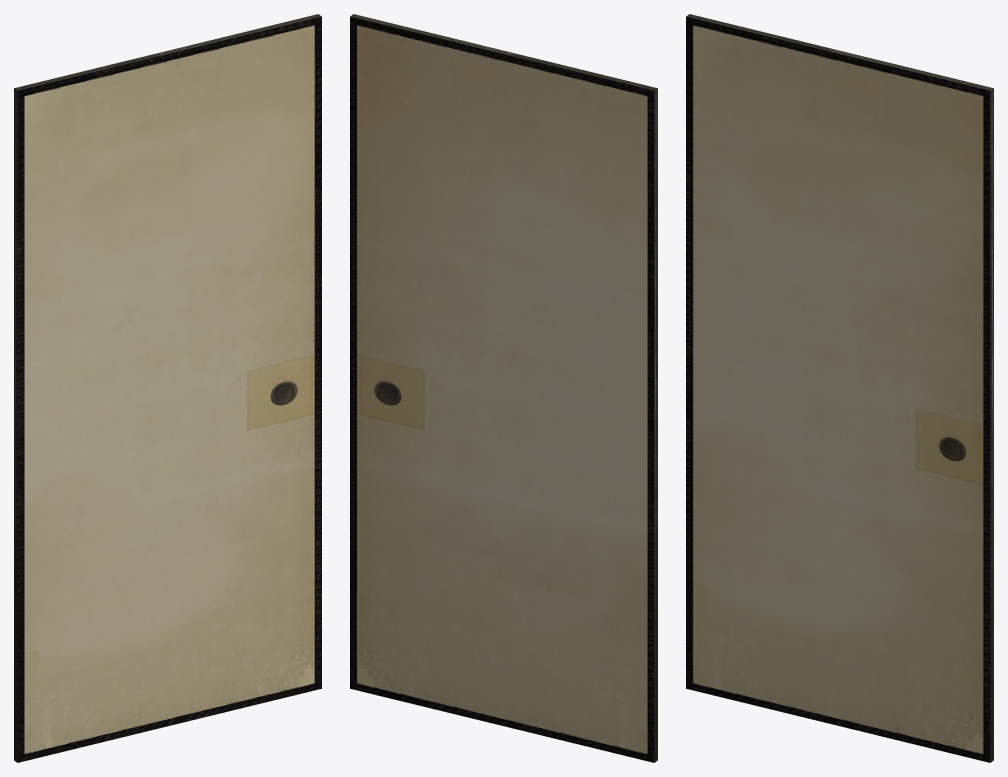
The model's file is doorFusumaRight.gltf.
3 views of the same model, side by side, from view 1: azimuth 30°, elevation 25°; view 2: azimuth 150°, elevation 25°; view 3: azimuth 330°, elevation 25° (orthographic).
Visible parts, largest first — view 1: fusumaDoor; view 2: fusumaDoor; view 3: fusumaDoor.
Boxes of the visible parts, x1,y1,x2,y2 form: fusumaDoor: (14,14,321,762); fusumaDoor: (350,14,657,762); fusumaDoor: (686,14,993,762).
Bounding box in the file's own units: 0.8111 × 1.71 × 0.016.
1 material, 1 textured.
